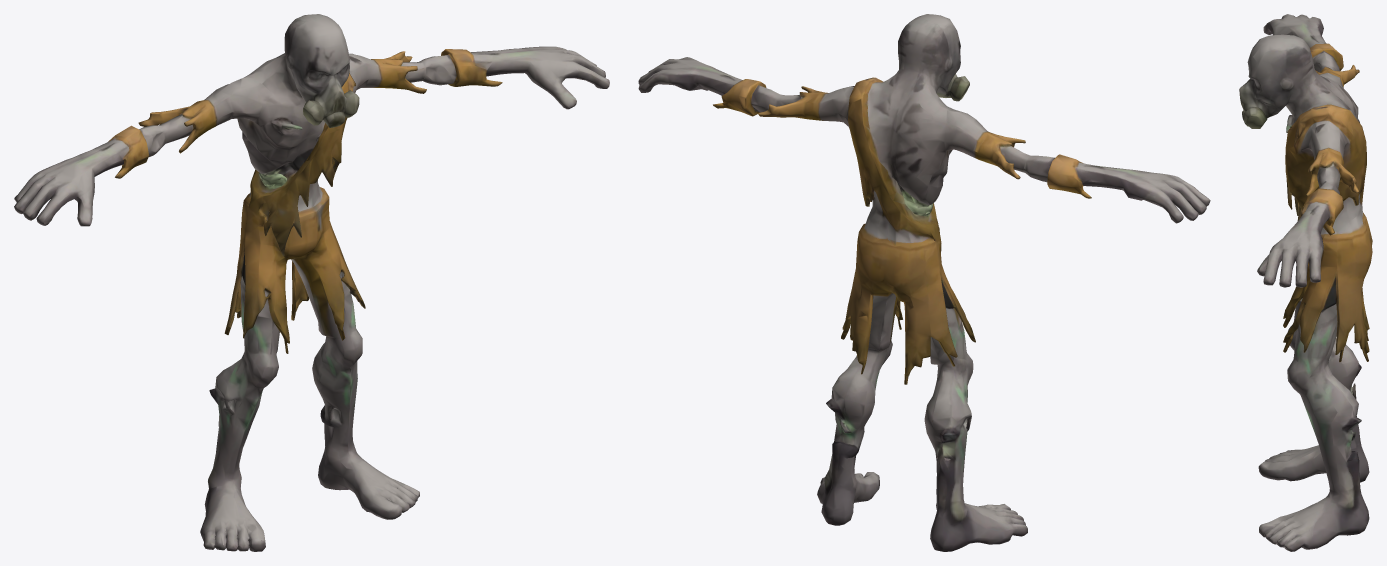
Rendered from Sicrayan.fbx.
3 renders of one model, left to right at view 1: azimuth 30°, elevation 25°; view 2: azimuth 150°, elevation 25°; view 3: azimuth 270°, elevation 25°, orthographic. The views are drawn at different scales.
Visible parts, largest first — view 1: Sicrayan; view 2: Sicrayan; view 3: Sicrayan.
Boxes of the visible parts, x1,y1,x2,y2 form: Sicrayan: [14, 14, 609, 551]; Sicrayan: [638, 14, 1210, 551]; Sicrayan: [1239, 14, 1372, 551].
Bounding box in the file's own units: 2.14 × 1.8 × 0.463.
Materials: 1 (1 with a texture image).
